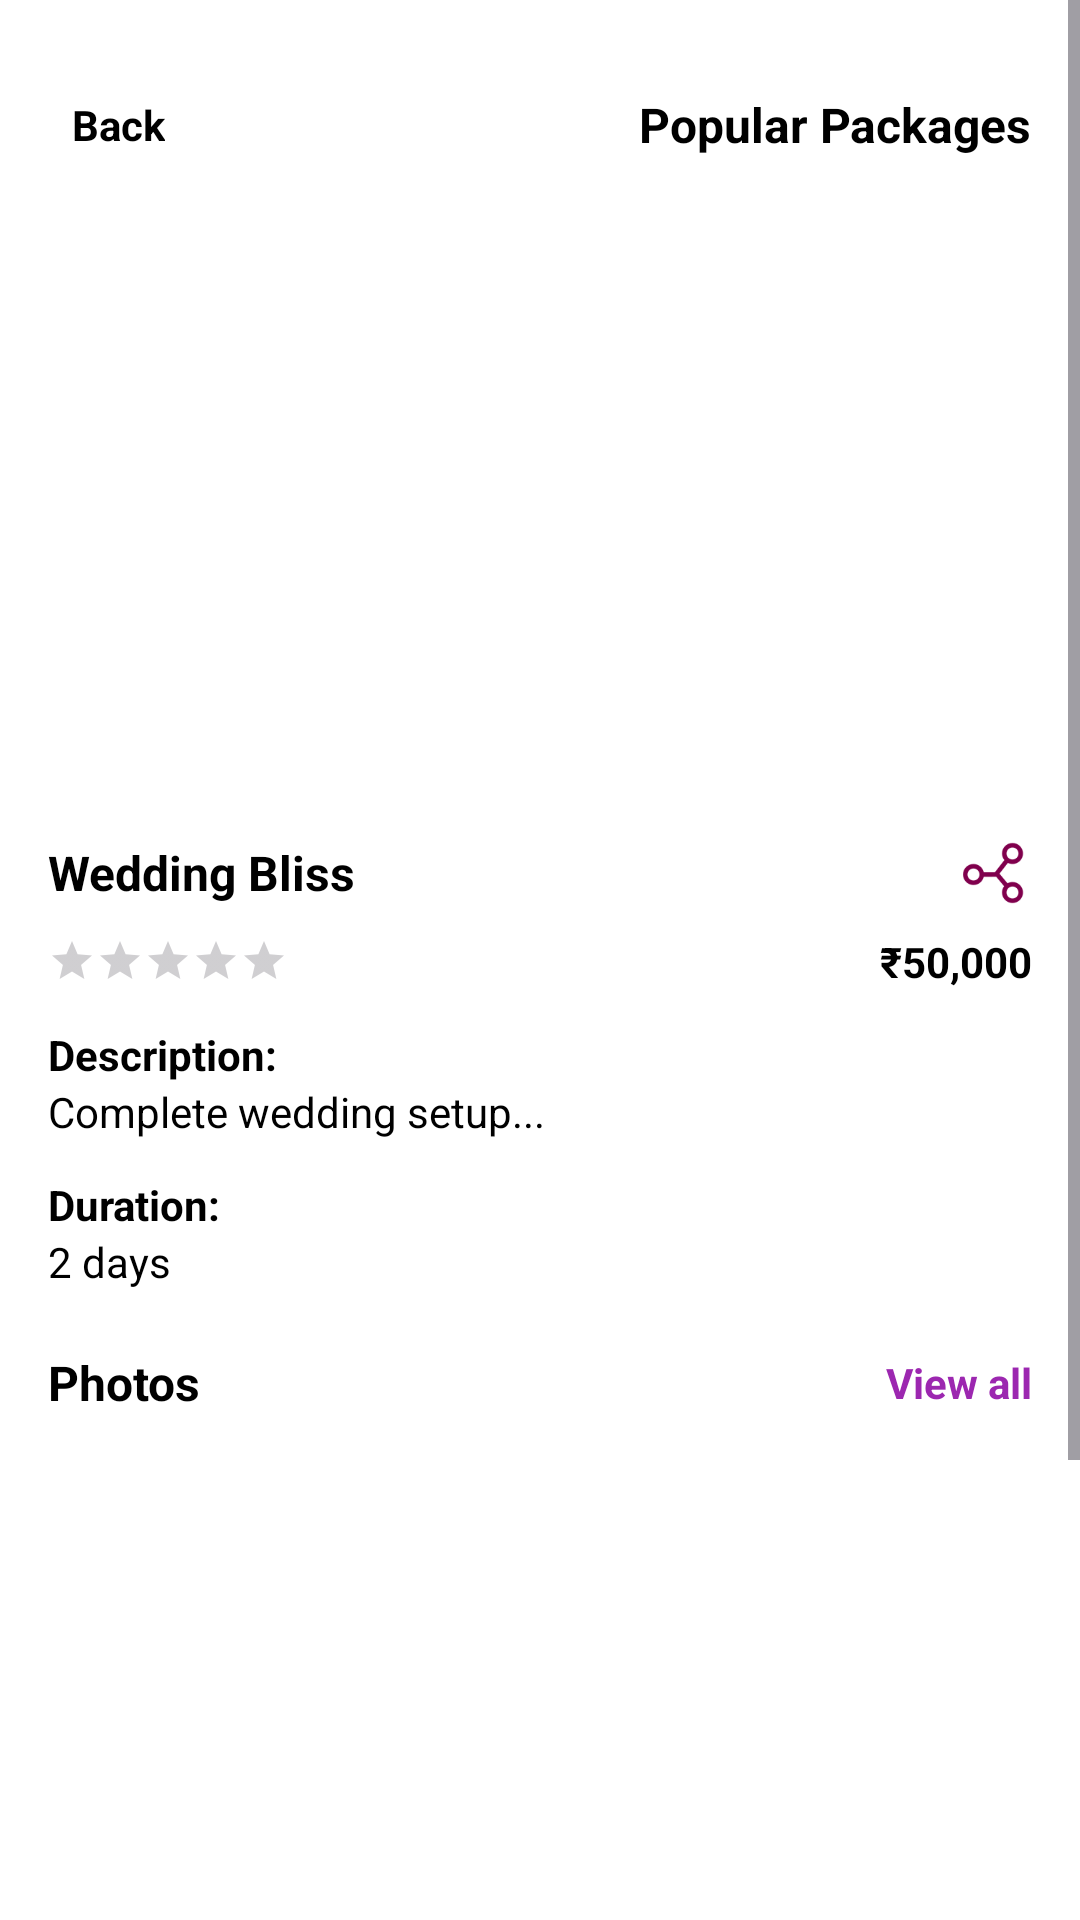

Where to tap for icons on this 1080 x 1920 app screen, as [x,y]:
Share package: [993,873]
